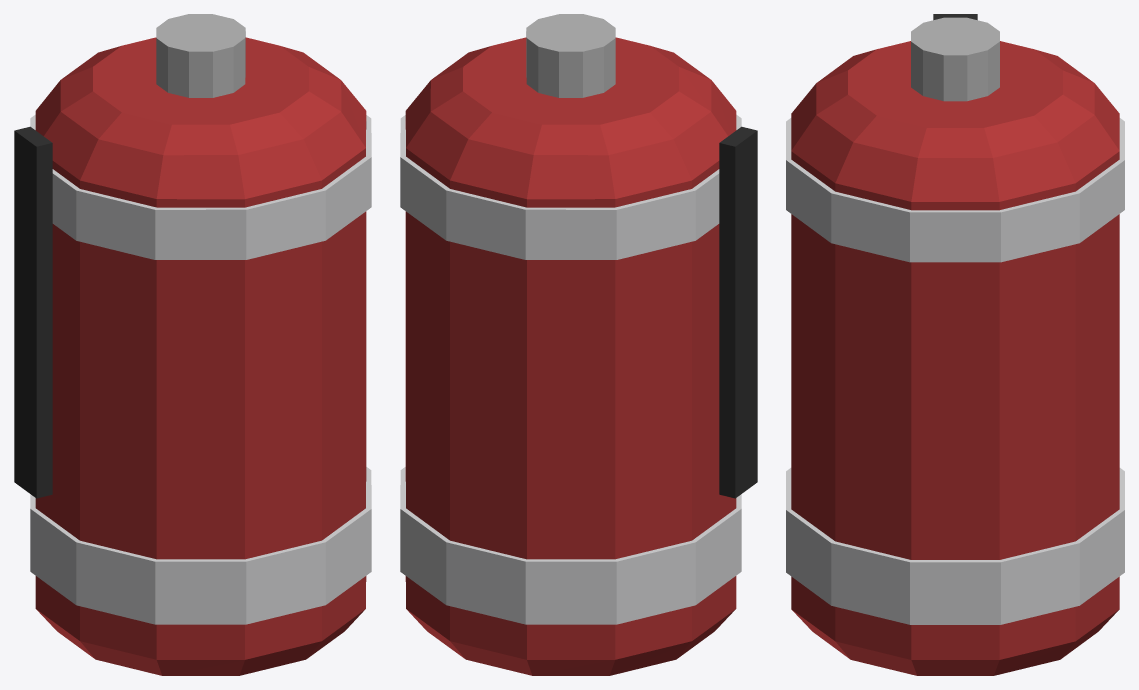
The model's file is ce_handgren_firefoam.obj.
3 views of the same model, side by side, from view 1: azimuth 30°, elevation 25°; view 2: azimuth 150°, elevation 25°; view 3: azimuth 270°, elevation 25° (orthographic).
Visible parts, largest first — view 1: ce_handgren_firefoam_body, ce_handgren_firefoam_band1, ce_handgren_firefoam_band0, ce_handgren_firefoam_spoon, ce_handgren_firefoam_fuze; view 2: ce_handgren_firefoam_body, ce_handgren_firefoam_band1, ce_handgren_firefoam_band0, ce_handgren_firefoam_spoon, ce_handgren_firefoam_fuze; view 3: ce_handgren_firefoam_body, ce_handgren_firefoam_band1, ce_handgren_firefoam_band0, ce_handgren_firefoam_fuze.
Part boxes in pixels (box(x1,y1,x2,y2)): ce_handgren_firefoam_body: box(35, 37, 366, 675); ce_handgren_firefoam_band1: box(30, 467, 371, 624); ce_handgren_firefoam_band0: box(30, 114, 371, 259); ce_handgren_firefoam_spoon: box(14, 126, 52, 498); ce_handgren_firefoam_fuze: box(156, 14, 245, 97); ce_handgren_firefoam_body: box(405, 37, 736, 675); ce_handgren_firefoam_band1: box(400, 467, 741, 624); ce_handgren_firefoam_band0: box(400, 114, 741, 259); ce_handgren_firefoam_spoon: box(719, 126, 757, 498); ce_handgren_firefoam_fuze: box(526, 14, 615, 97); ce_handgren_firefoam_body: box(791, 41, 1119, 675); ce_handgren_firefoam_band1: box(786, 468, 1124, 624); ce_handgren_firefoam_band0: box(786, 118, 1124, 262); ce_handgren_firefoam_fuze: box(911, 17, 999, 101).
Bounding box in the file's own units: 0.1009 × 0.1738 × 0.0922.
